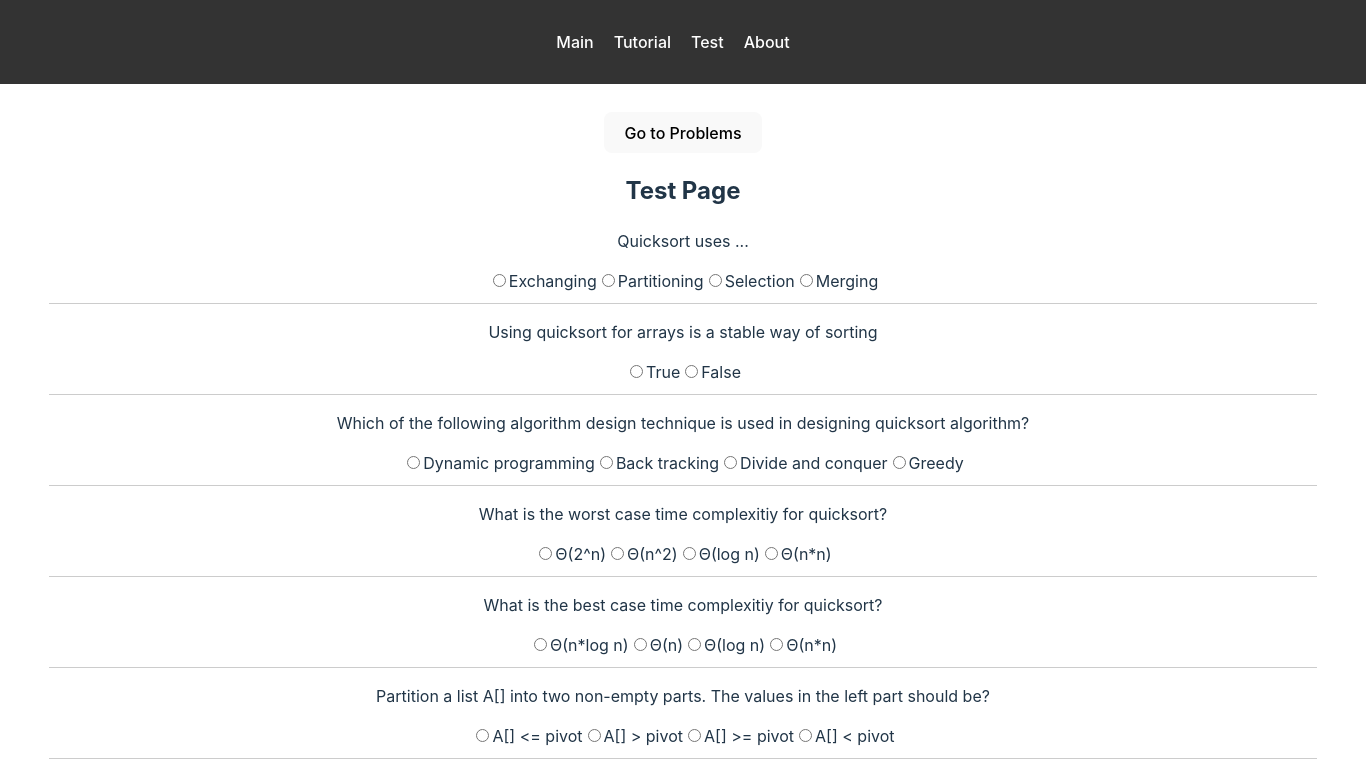
Test case: App › renders the About component for the "/about" route
This screenshot has width=1366, height=768.
Step 1. Click the link "About" → (767, 42), box [744,32,790,52]
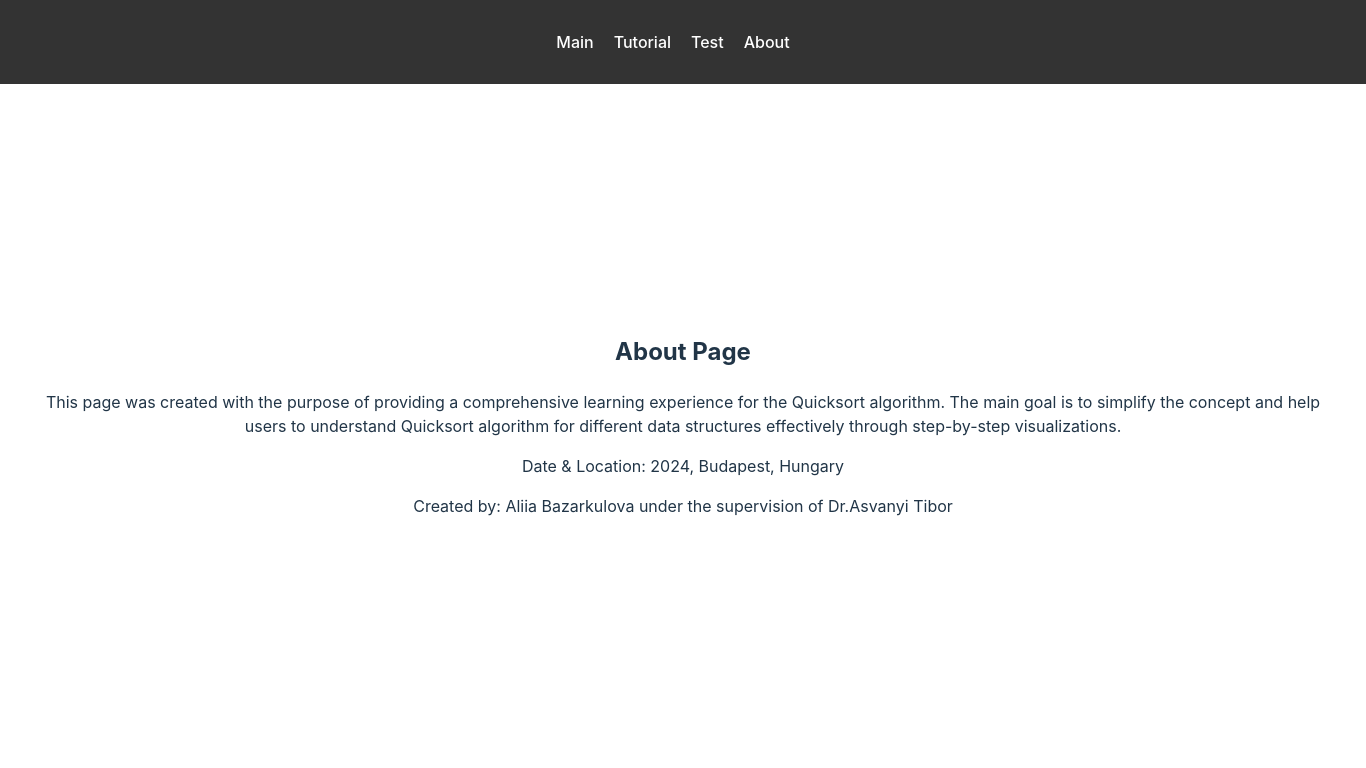
Expected: the heading "About Page" is shown, [615,337,751,366]
